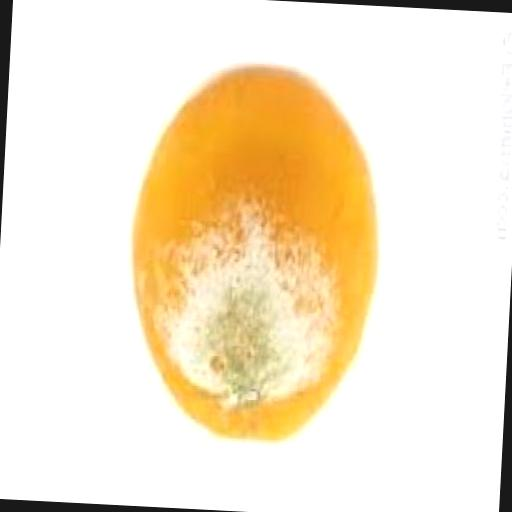biodegradable: (118, 60, 384, 450)
